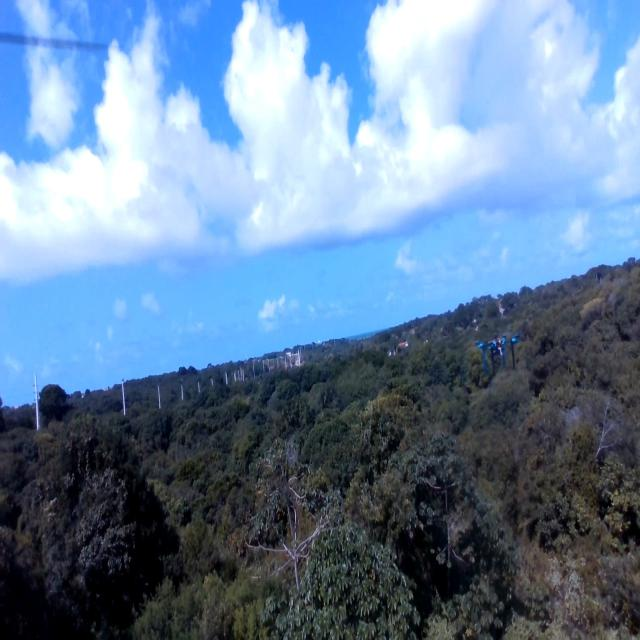-uav-: (470, 328, 528, 382)
